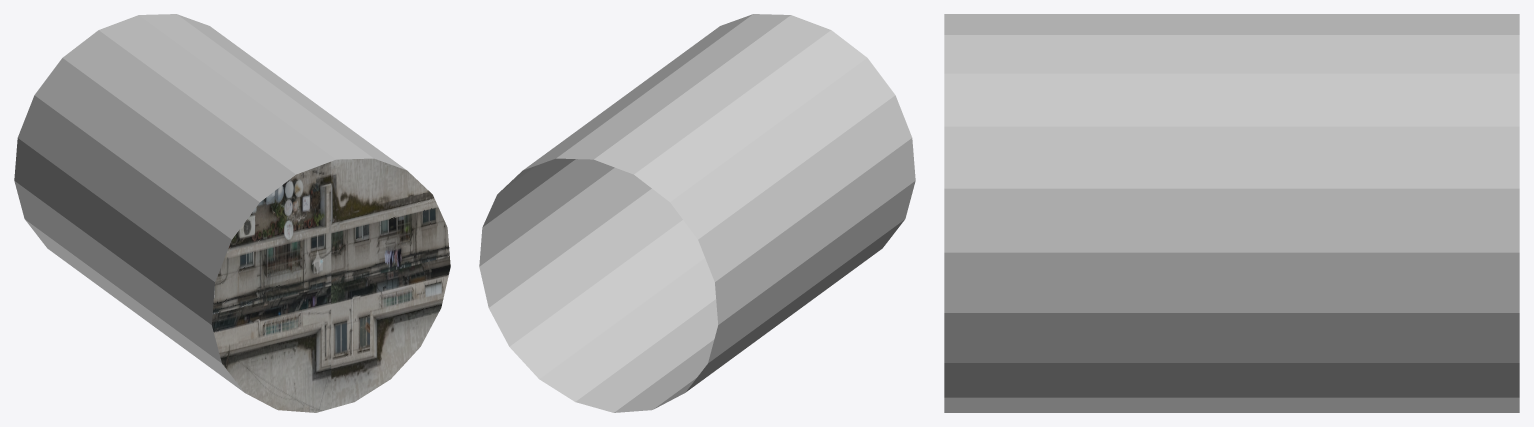
Rendered from geospecific_755.obj.
The picture shows the model from 3 angles, left to right: view 1: azimuth 30°, elevation 25°; view 2: azimuth 150°, elevation 25°; view 3: azimuth 270°, elevation 25°; orthographic projection. The views are drawn at different scales.
Visible parts, largest first — view 1: Building; view 2: Building; view 3: Building.
Boxes of the visible parts, x1=… form: Building: x1=14, y1=14, x2=450, y2=412; Building: x1=479, y1=14, x2=915, y2=412; Building: x1=944, y1=14, x2=1519, y2=412.
Size of the model in its own units: 20.95 by 20.83 by 30.
